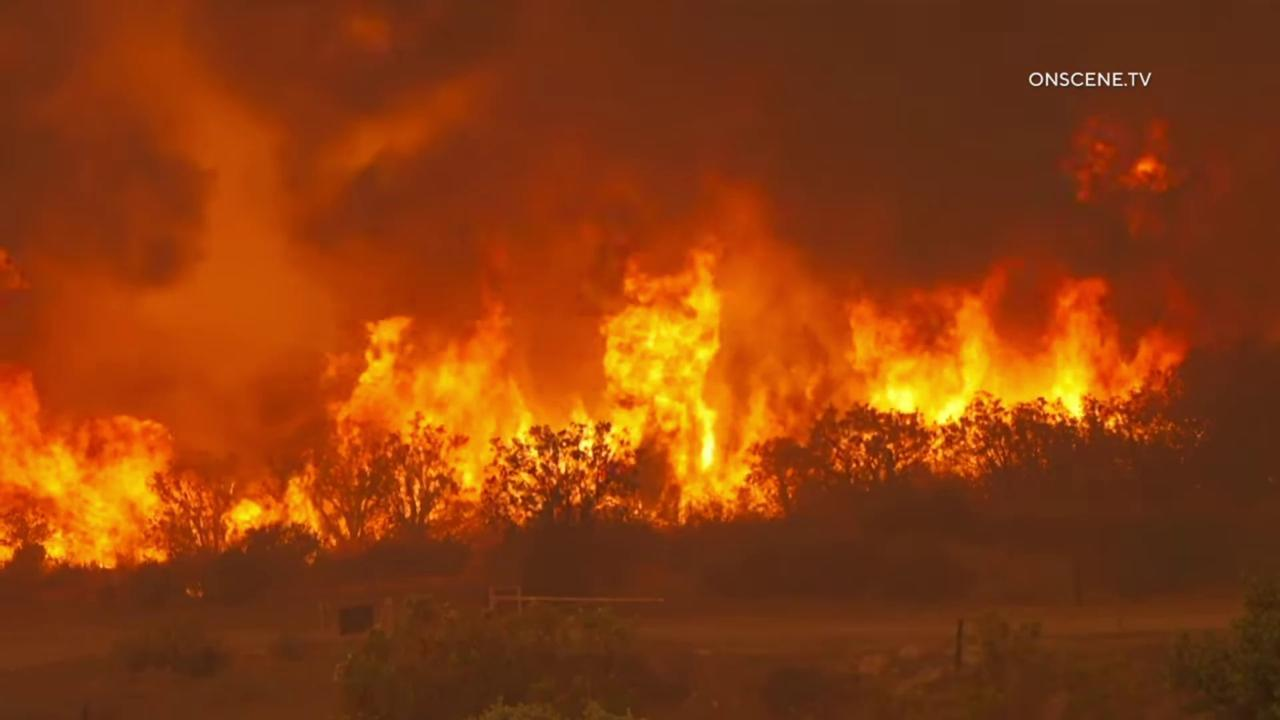fire: (0, 225, 1207, 579), (1056, 103, 1200, 236)
smoke: (0, 0, 1280, 720)
